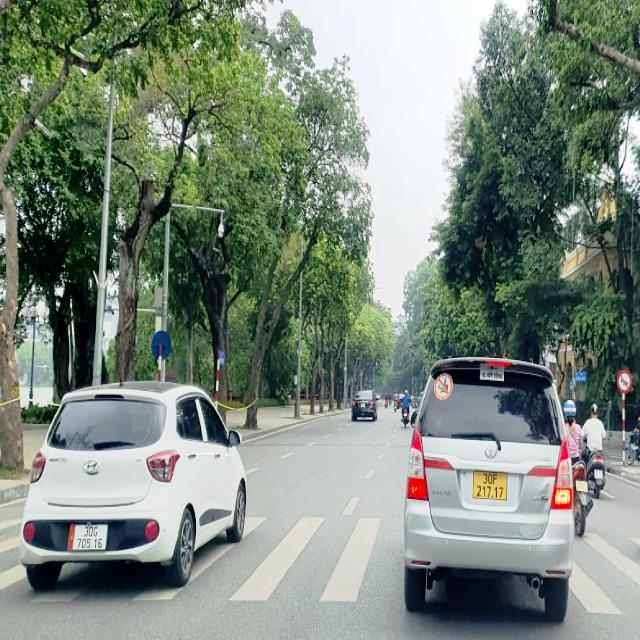license_plate: (474, 468, 509, 504)
